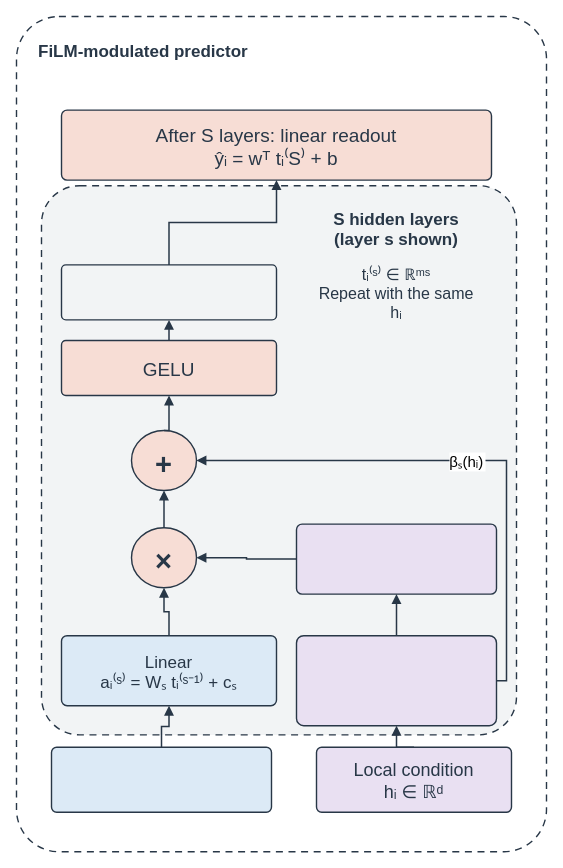
Image size: 563x868. Some labels were removed from this diagram. The centre of each missing label's shape, as x and y in pixels:
"Bounded scale sᵢ⁽ˢ⁾ = 1 + tanh γₛ(hᵢ)" belongs at (396,558).
"Dropout" belongs at (168,292).
"FiLM linear d → 2mₛ Split → γₛ(hᵢ), βₛ(hᵢ) Zero-initialised weights + bias" belongs at (396,680).
"Query covariates tᵢ⁽⁰⁾ = xᵢ" belongs at (161,779).
